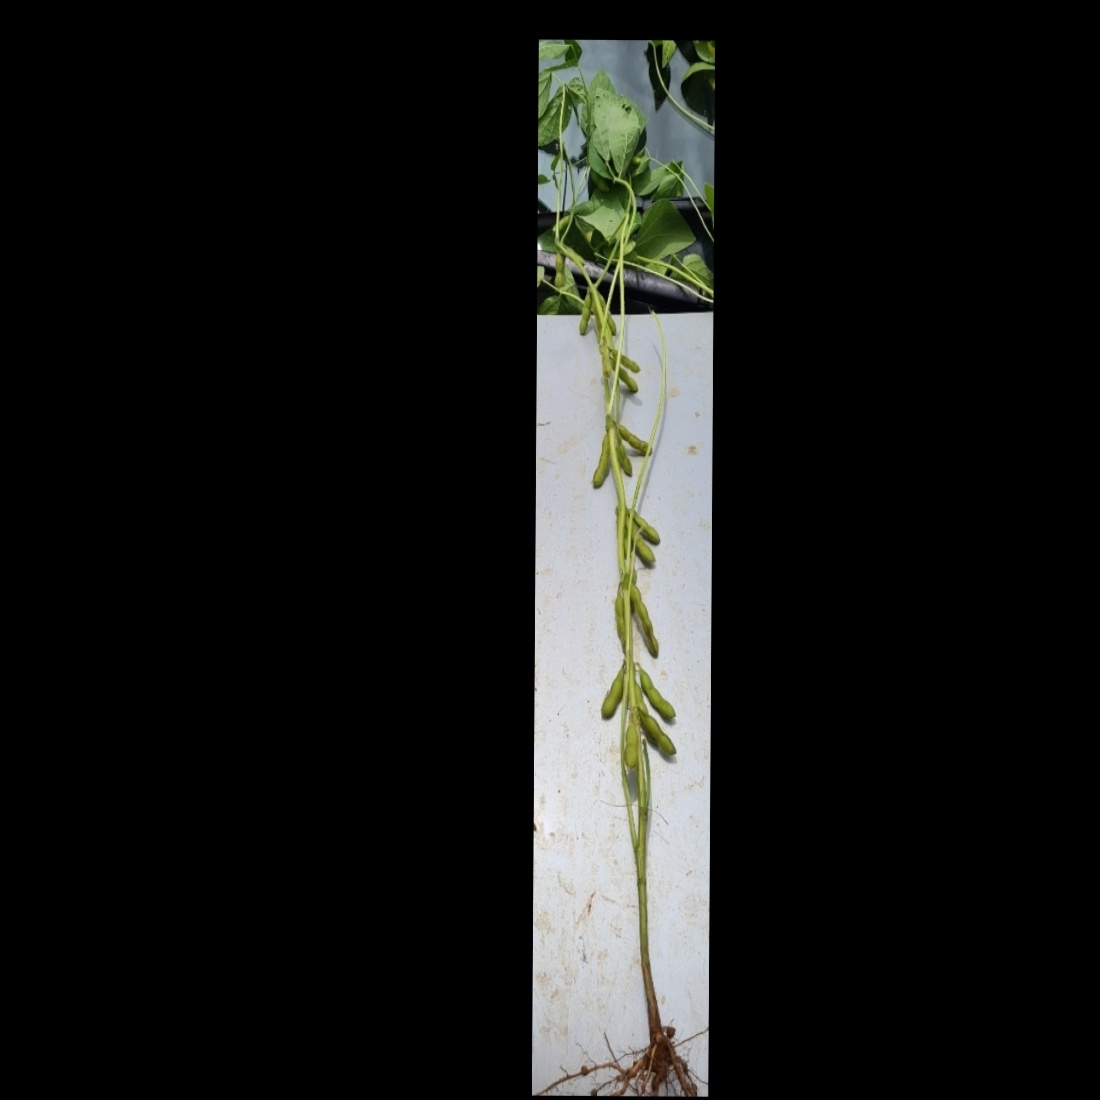pod: (629, 582, 662, 657), (638, 663, 679, 721), (598, 662, 628, 722), (642, 711, 679, 757), (609, 359, 640, 394), (592, 432, 611, 488), (576, 288, 594, 340), (623, 719, 639, 775), (612, 342, 641, 373), (615, 436, 635, 479), (554, 249, 569, 293), (589, 169, 611, 193)
soy: (551, 98, 701, 1066)
